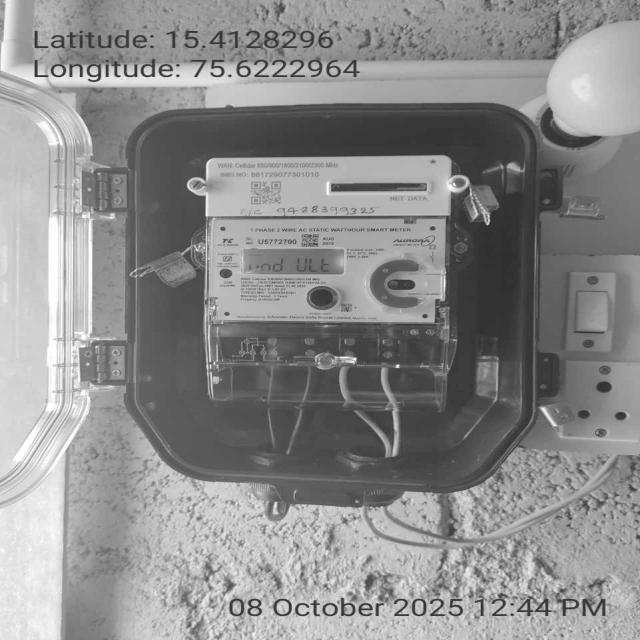meter: (204, 157, 459, 321)
